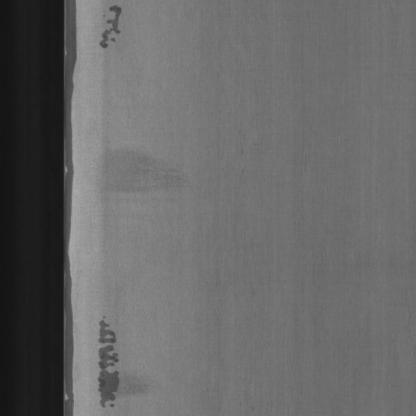oil_spot: (90, 308, 124, 414), (94, 0, 130, 64)
